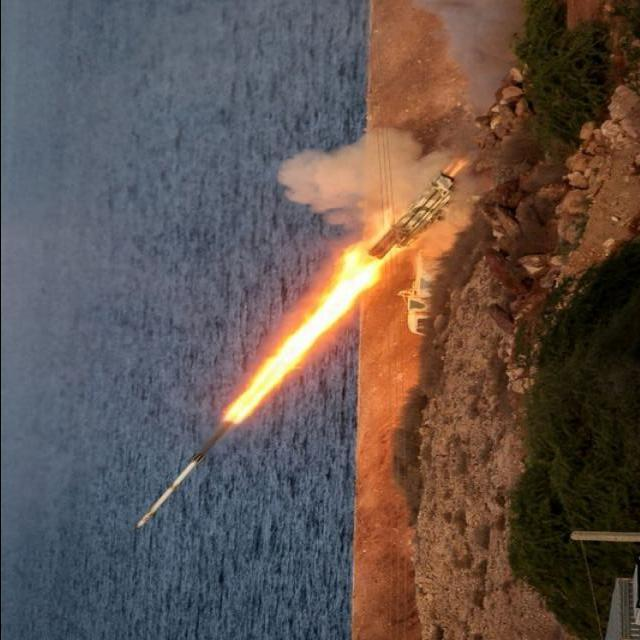missile: (137, 418, 235, 529)
